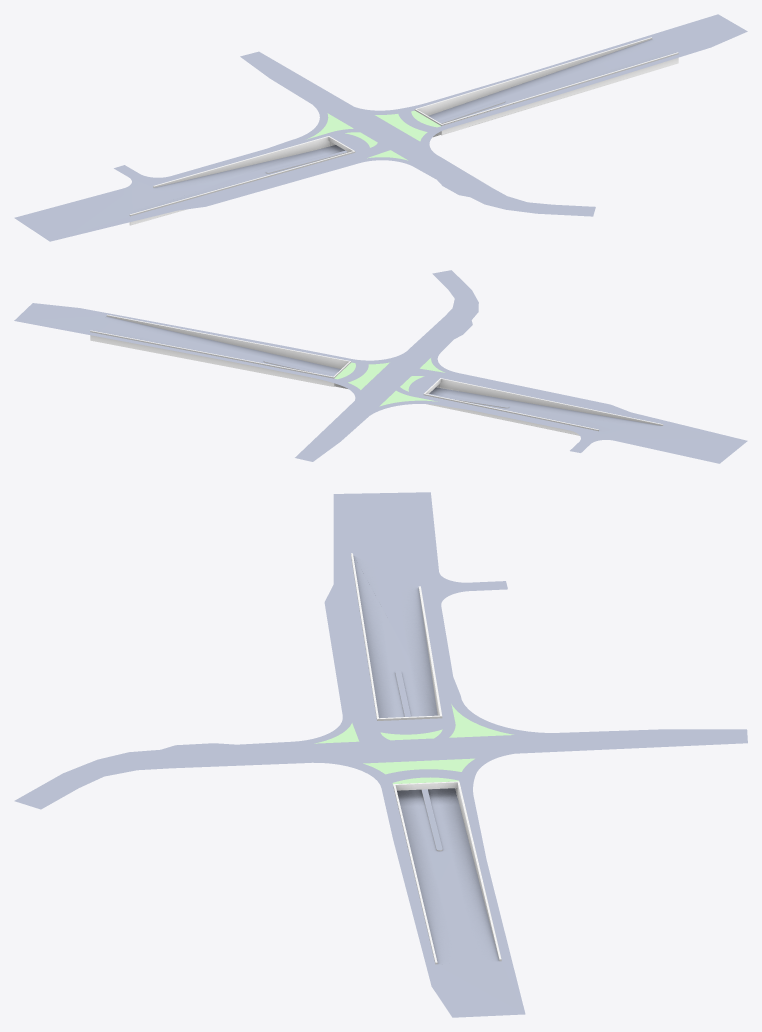
Rendered from Al-Farabi-Nazarbaeva2.glb.
3 renders of one model, top to bottom at view 1: azimuth 30°, elevation 25°; view 2: azimuth 150°, elevation 25°; view 3: azimuth 270°, elevation 25°, orthographic. The views are drawn at different scales.
Parts seen in each view (by area): view 1: group_0.001, group_0, group_2, group_1.003, group_3; view 2: group_0.001, group_2, group_0, group_1.003, group_3; view 3: group_0.001, group_0, group_2, group_1.003.
Part boxes in pixels (box(x1,y1,x2,y2)): group_0.001: box(14, 14, 747, 241); group_0: box(131, 39, 675, 213); group_2: box(129, 37, 678, 225); group_1.003: box(375, 114, 427, 141); group_3: box(266, 100, 504, 172); group_0.001: box(14, 270, 747, 463); group_2: box(90, 314, 663, 435); group_0: box(92, 316, 661, 430); group_1.003: box(348, 362, 389, 389); group_3: box(264, 360, 508, 407); group_0.001: box(14, 492, 747, 1017); group_0: box(353, 555, 499, 964); group_2: box(351, 553, 501, 964); group_1.003: box(363, 758, 474, 774).
Size of the model in its own units: 588 by 8.02 by 347.
5 materials, 2 textured.
